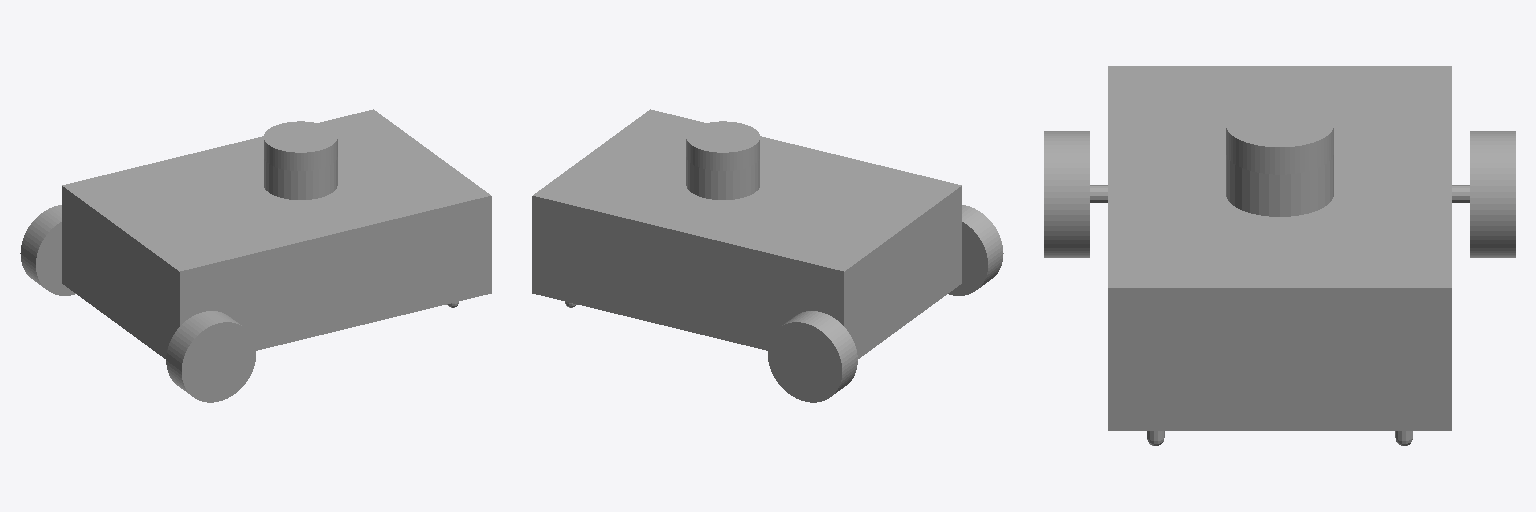
URDF robot description (Car_2_2023.10.04):
<?xml version="1.0" ?>
<!-- =================================================================================== -->
<!-- |    This document was autogenerated by xacro from .\urdf\Car_2_2023.10.04.xacro  | -->
<!-- |    EDITING THIS FILE BY HAND IS NOT RECOMMENDED                                 | -->
<!-- =================================================================================== -->
<robot xmlns:xacro="http://www.ros.org/wiki/xacro" name="Car_2_2023.10.04">
  <material name="silver">
    <color rgba="0.700 0.700 0.700 1.000"/>
  </material>
  <transmission name="Revolute 1_tran">
    <type>transmission_interface/SimpleTransmission</type>
    <joint name="Revolute 1">
      <hardwareInterface>hardware_interface/EffortJointInterface</hardwareInterface>
    </joint>
    <actuator name="Revolute 1_actr">
      <hardwareInterface>hardware_interface/EffortJointInterface</hardwareInterface>
      <mechanicalReduction>1</mechanicalReduction>
    </actuator>
  </transmission>
  <transmission name="Revolute 2_tran">
    <type>transmission_interface/SimpleTransmission</type>
    <joint name="Revolute 2">
      <hardwareInterface>hardware_interface/EffortJointInterface</hardwareInterface>
    </joint>
    <actuator name="Revolute 2_actr">
      <hardwareInterface>hardware_interface/EffortJointInterface</hardwareInterface>
      <mechanicalReduction>1</mechanicalReduction>
    </actuator>
  </transmission>
  <transmission name="Revolute 3_tran">
    <type>transmission_interface/SimpleTransmission</type>
    <joint name="Revolute 3">
      <hardwareInterface>hardware_interface/EffortJointInterface</hardwareInterface>
    </joint>
    <actuator name="Revolute 3_actr">
      <hardwareInterface>hardware_interface/EffortJointInterface</hardwareInterface>
      <mechanicalReduction>1</mechanicalReduction>
    </actuator>
  </transmission>
  <gazebo>
    <plugin name="control" filename="libgazebo_ros_control.so"/>
  </gazebo>
  <gazebo reference="base_link">
    <material>Gazebo/Silver</material>
    <mu1>0.2</mu1>
    <mu2>0.2</mu2>
    <selfCollide>true</selfCollide>
    <gravity>true</gravity>
  </gazebo>
  <gazebo reference="Right_Back_Wheel_1">
    <material>Gazebo/Silver</material>
    <mu1>0.2</mu1>
    <mu2>0.2</mu2>
    <selfCollide>true</selfCollide>
  </gazebo>
  <gazebo reference="Left_Back_Wheel_1">
    <material>Gazebo/Silver</material>
    <mu1>0.2</mu1>
    <mu2>0.2</mu2>
    <selfCollide>true</selfCollide>
  </gazebo>
  <gazebo reference="Lidar_1">
    <material>Gazebo/Silver</material>
    <mu1>0.2</mu1>
    <mu2>0.2</mu2>
    <selfCollide>true</selfCollide>
  </gazebo>
  <link name="base_link">
    <inertial>
      <origin xyz="-0.05863109688907081 -0.06641556545599622 0.05668525323671206" rpy="0 0 0"/>
      <mass value="67.11125811900729"/>
      <inertia ixx="0.355034" iyy="0.7422" izz="0.966318" ixy="-0.0" iyz="0.0" ixz="-0.001566"/>
    </inertial>
    <visual>
      <origin xyz="0 0 0" rpy="0 0 0"/>
      <geometry>
        <mesh filename="package://Car_2_2023.10.04_description/meshes/base_link.stl" scale="0.001 0.001 0.001"/>
      </geometry>
      <material name="silver"/>
    </visual>
    <collision>
      <origin xyz="0 0 0" rpy="0 0 0"/>
      <geometry>
        <mesh filename="package://Car_2_2023.10.04_description/meshes/base_link.stl" scale="0.001 0.001 0.001"/>
      </geometry>
    </collision>
  </link>
  <link name="Right_Back_Wheel_1">
    <inertial>
      <origin xyz="1.2512502856054653e-07 -0.014999565455996011 -2.5072615004659293e-07" rpy="0 0 0"/>
      <mass value="1.3050867033395783"/>
      <inertia ixx="0.000673" iyy="0.001151" izz="0.000673" ixy="-0.0" iyz="0.0" ixz="0.0"/>
    </inertial>
    <visual>
      <origin xyz="0.21406 0.192916 -0.023225" rpy="0 0 0"/>
      <geometry>
        <mesh filename="package://Car_2_2023.10.04_description/meshes/Right_Back_Wheel_1.stl" scale="0.001 0.001 0.001"/>
      </geometry>
      <material name="silver"/>
    </visual>
    <collision>
      <origin xyz="0.21406 0.192916 -0.023225" rpy="0 0 0"/>
      <geometry>
        <mesh filename="package://Car_2_2023.10.04_description/meshes/Right_Back_Wheel_1.stl" scale="0.001 0.001 0.001"/>
      </geometry>
    </collision>
  </link>
  <link name="Left_Back_Wheel_1">
    <inertial>
      <origin xyz="1.2512502872707998e-07 0.01500043454400378 -2.5072615003965404e-07" rpy="0 0 0"/>
      <mass value="1.3050867033395783"/>
      <inertia ixx="0.000673" iyy="0.001151" izz="0.000673" ixy="0.0" iyz="0.0" ixz="0.0"/>
    </inertial>
    <visual>
      <origin xyz="0.21406 -0.060084 -0.023225" rpy="0 0 0"/>
      <geometry>
        <mesh filename="package://Car_2_2023.10.04_description/meshes/Left_Back_Wheel_1.stl" scale="0.001 0.001 0.001"/>
      </geometry>
      <material name="silver"/>
    </visual>
    <collision>
      <origin xyz="0.21406 -0.060084 -0.023225" rpy="0 0 0"/>
      <geometry>
        <mesh filename="package://Car_2_2023.10.04_description/meshes/Left_Back_Wheel_1.stl" scale="0.001 0.001 0.001"/>
      </geometry>
    </collision>
  </link>
  <link name="Lidar_1">
    <inertial>
      <origin xyz="1.2512502872014108e-07 4.3454400386333525e-07 0.009999749273849973" rpy="0 0 0"/>
      <mass value="0.6392261404112222"/>
      <inertia ixx="0.000228" iyy="0.000228" izz="0.000414" ixy="0.0" iyz="-0.0" ixz="-0.0"/>
    </inertial>
    <visual>
      <origin xyz="0.03206 0.066416 -0.139225" rpy="0 0 0"/>
      <geometry>
        <mesh filename="package://Car_2_2023.10.04_description/meshes/Lidar_1.stl" scale="0.001 0.001 0.001"/>
      </geometry>
      <material name="silver"/>
    </visual>
    <collision>
      <origin xyz="0.03206 0.066416 -0.139225" rpy="0 0 0"/>
      <geometry>
        <mesh filename="package://Car_2_2023.10.04_description/meshes/Lidar_1.stl" scale="0.001 0.001 0.001"/>
      </geometry>
    </collision>
  </link>
  <joint name="Revolute 1" type="continuous">
    <origin xyz="-0.21406 -0.192916 0.023225" rpy="0 0 0"/>
    <parent link="base_link"/>
    <child link="Right_Back_Wheel_1"/>
    <axis xyz="-0.0 -1.0 -0.0"/>
  </joint>
  <joint name="Revolute 2" type="continuous">
    <origin xyz="-0.21406 0.060084 0.023225" rpy="0 0 0"/>
    <parent link="base_link"/>
    <child link="Left_Back_Wheel_1"/>
    <axis xyz="0.0 1.0 0.0"/>
  </joint>
  <joint name="Revolute 3" type="continuous">
    <origin xyz="-0.03206 -0.066416 0.139225" rpy="0 0 0"/>
    <parent link="base_link"/>
    <child link="Lidar_1"/>
    <axis xyz="0.0 0.0 1.0"/>
  </joint>
</robot>

--- Render facts (derived) ---
Views: 3 orthographic renders of the robot side by side, from view 1: azimuth 30°, elevation 25°; view 2: azimuth 150°, elevation 25°; view 3: azimuth 270°, elevation 25°.
Robot: Car_2_2023.10.04 — 4 links, 3 joints (3 continuous); root link base_link; default pose: all joints at 0.
Links seen in each view (by area): view 1: base_link, Right_Back_Wheel_1, Lidar_1, Left_Back_Wheel_1; view 2: base_link, Left_Back_Wheel_1, Lidar_1, Right_Back_Wheel_1; view 3: base_link, Lidar_1, Right_Back_Wheel_1, Left_Back_Wheel_1.
Boxes of the visible links, x1,y1,x2,y2 form: base_link: (62,109,491,358); Right_Back_Wheel_1: (166,311,255,402); Lidar_1: (264,121,337,170); Left_Back_Wheel_1: (20,205,75,295); base_link: (532,109,961,358); Left_Back_Wheel_1: (768,311,857,402); Lidar_1: (686,121,759,170); Right_Back_Wheel_1: (948,205,1003,295); base_link: (1090,66,1469,445); Lidar_1: (1226,102,1333,174); Right_Back_Wheel_1: (1044,131,1089,257); Left_Back_Wheel_1: (1470,131,1515,257).
Size in the robot's own frame: 0.372 by 0.313 by 0.178 metres.
4 mesh visuals loaded from 4 distinct referenced files (4 binary STL).